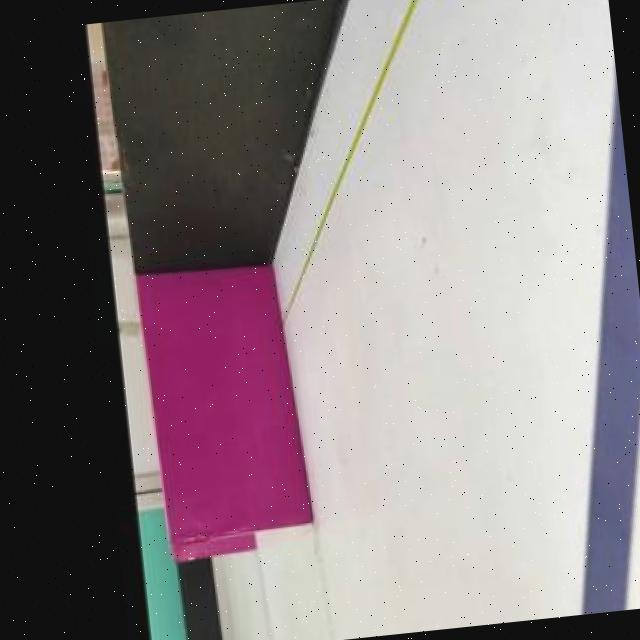xparking: (144, 270, 308, 540)
